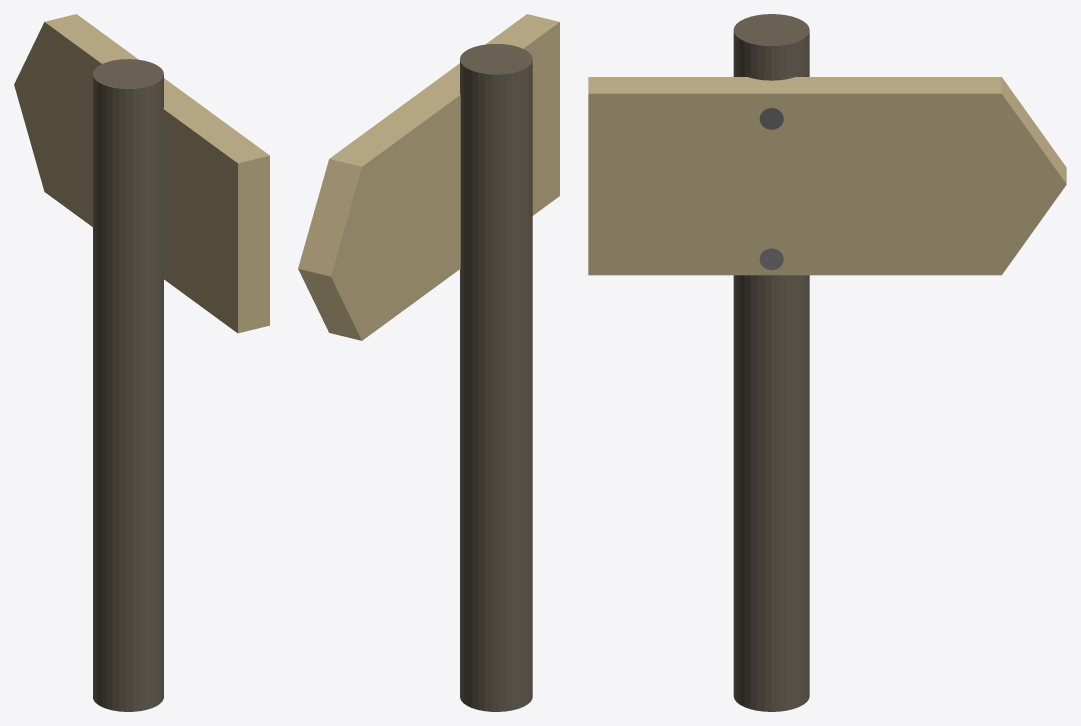
Rendered from signpost reversed.fbx.
The picture shows the model from 3 angles, left to right: view 1: azimuth 30°, elevation 25°; view 2: azimuth 150°, elevation 25°; view 3: azimuth 270°, elevation 25°; orthographic projection. The views are drawn at different scales.
Visible parts, largest first — view 1: Cylinder, Cube; view 2: Cylinder, Cube; view 3: Cube, Cylinder.
Boxes of the visible parts, x1,y1,x2,y2 form: Cylinder: (93,59,163,711); Cube: (14,14,269,333); Cylinder: (460,44,532,711); Cube: (298,14,559,340); Cube: (588,77,1066,275); Cylinder: (733,14,809,711).
Size of the model in its own units: 57.04 by 380 by 247.
